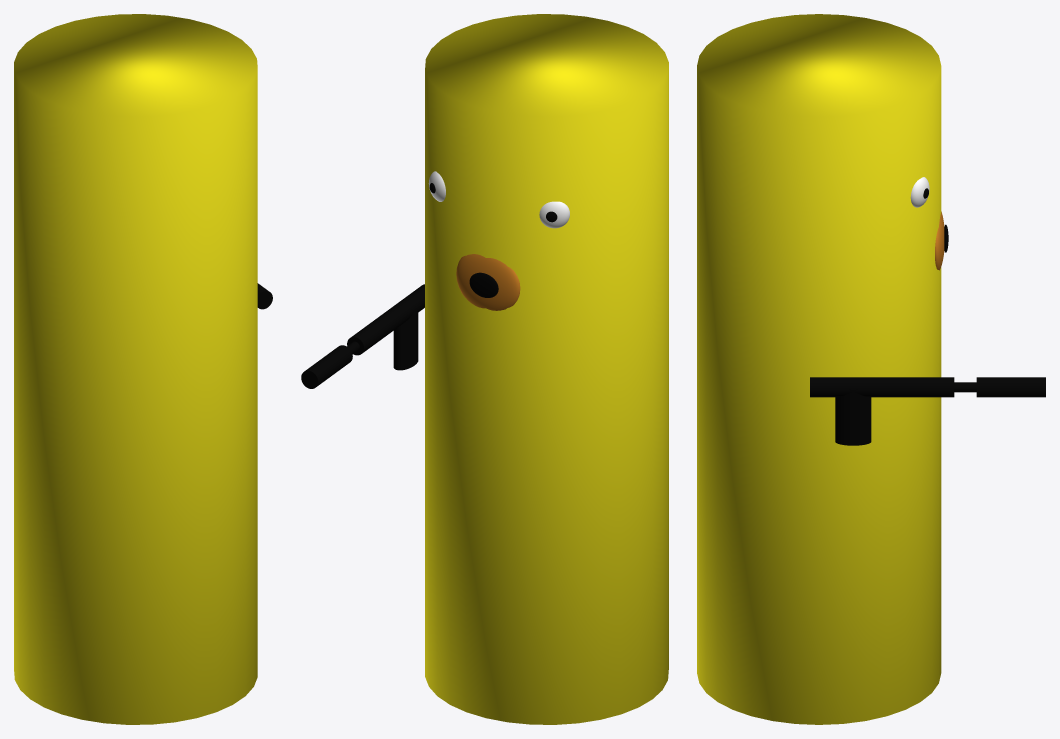
Rendered from choomah.glb.
3 views of the same model, side by side, from view 1: azimuth 30°, elevation 25°; view 2: azimuth 150°, elevation 25°; view 3: azimuth 270°, elevation 25° (orthographic).
Visible parts, largest first — view 1: Cylinder; view 2: Cylinder, Sphere.002, Cylinder.002, Cylinder.001, Cylinder.004, Sphere.001; view 3: Cylinder, Cylinder.002, Cylinder.001, Cylinder.004.
Part boxes in pixels (x1,y1,x2,y2): Cylinder: [14, 14, 257, 724]; Cylinder: [425, 14, 668, 724]; Sphere.002: [456, 254, 520, 310]; Cylinder.002: [347, 284, 424, 355]; Cylinder.001: [393, 308, 418, 370]; Cylinder.004: [301, 345, 352, 388]; Sphere.001: [539, 201, 569, 228]; Cylinder: [697, 14, 941, 724]; Cylinder.002: [810, 377, 954, 397]; Cylinder.001: [835, 389, 871, 445]; Cylinder.004: [976, 377, 1045, 397].
Bounding box in the file's own units: 1.64 × 3.99 × 2.08.
